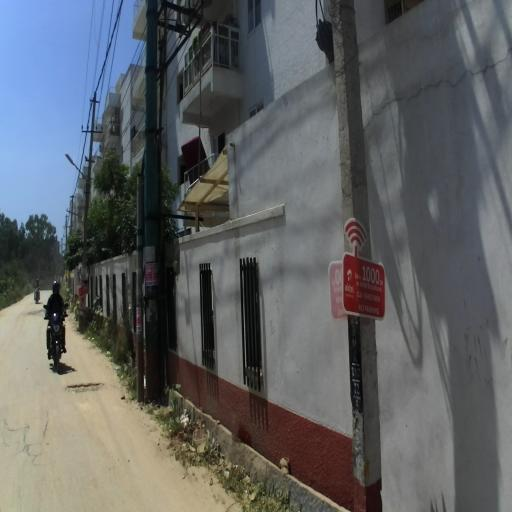street_light_0: (65, 153, 90, 197)
